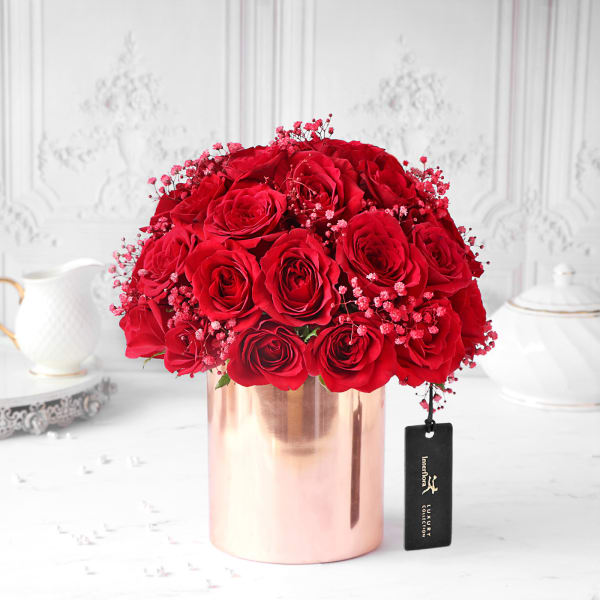rose: (142, 147, 474, 381)
